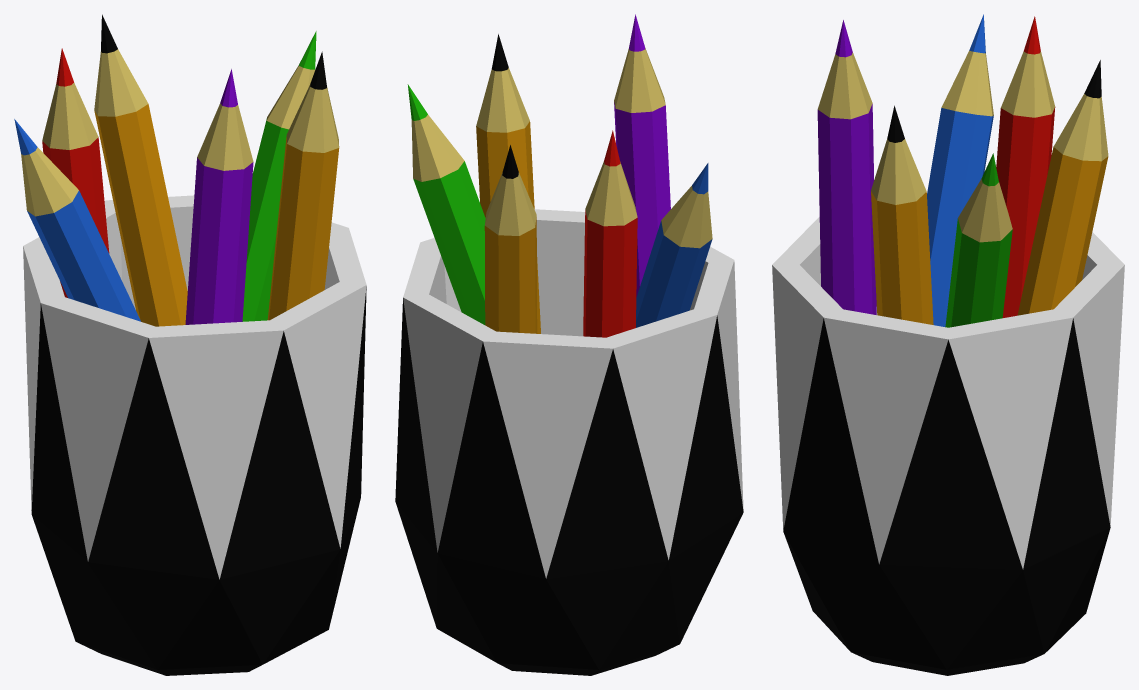
The model's file is Stiftebecher.fbx.
The picture shows the model from 3 angles, left to right: view 1: azimuth 30°, elevation 25°; view 2: azimuth 150°, elevation 25°; view 3: azimuth 270°, elevation 25°; orthographic projection. The views are drawn at different scales.
Visible parts, largest first — view 1: Cylinder.001, Cylinder.006, Cylinder.005, Cylinder, Cylinder.003, Cylinder.004, Cylinder.002; view 2: Cylinder.001, Cylinder.004, Cylinder.002, Cylinder.005, Cylinder.006, Cylinder.003, Cylinder; view 3: Cylinder.001, Cylinder.005, Cylinder.006, Cylinder.003, Cylinder.002, Cylinder, Cylinder.004.
Part boxes in pixels (x1,y1,x2,y2): Cylinder.001: (23, 195, 366, 675); Cylinder.006: (94, 14, 187, 326); Cylinder.005: (185, 69, 253, 324); Cylinder: (267, 51, 339, 320); Cylinder.003: (14, 119, 140, 321); Cylinder.004: (242, 31, 316, 321); Cylinder.002: (42, 48, 109, 297); Cylinder.001: (395, 209, 743, 675); Cylinder.004: (407, 84, 485, 324); Cylinder.002: (583, 130, 637, 337); Cylinder.005: (614, 14, 670, 297); Cylinder.006: (484, 145, 537, 333); Cylinder.003: (636, 163, 712, 327); Cylinder: (476, 34, 540, 333); Cylinder.001: (772, 217, 1124, 675); Cylinder.005: (817, 20, 876, 314); Cylinder.006: (1017, 60, 1108, 315); Cylinder.003: (927, 14, 993, 326); Cylinder.002: (996, 16, 1055, 317); Cylinder: (871, 105, 933, 324); Cylinder.004: (945, 153, 1012, 327).
Bounding box in the file's own units: 9.13 × 16.72 × 8.88.
